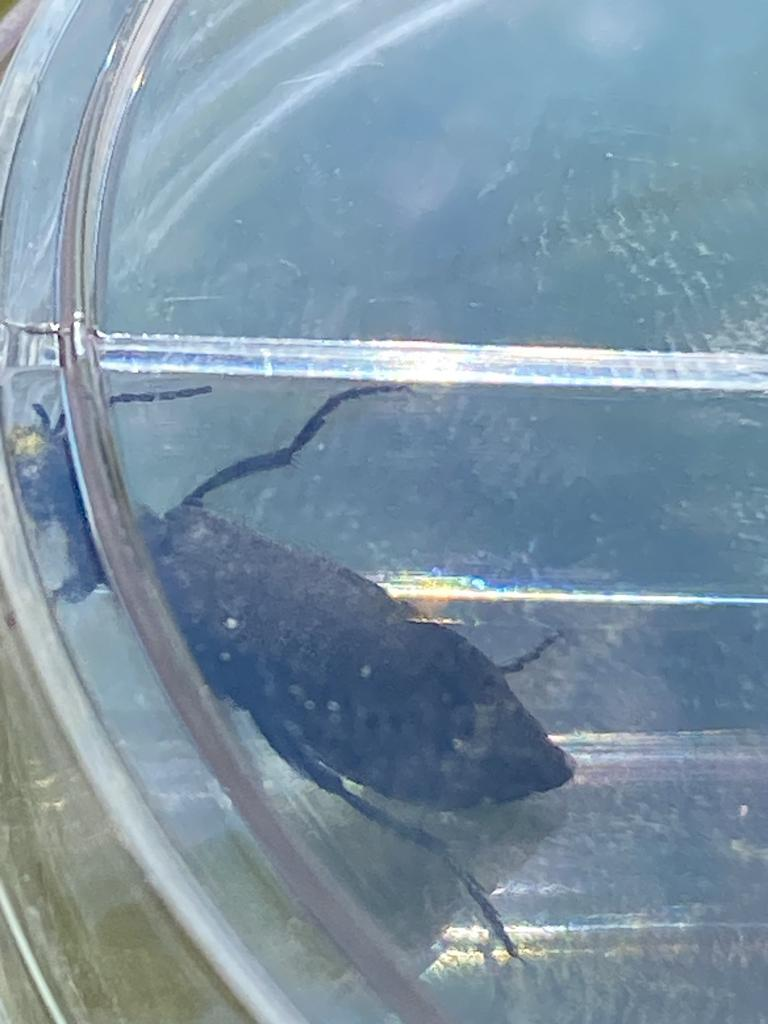blister_beetle: (0, 315, 665, 1014)
